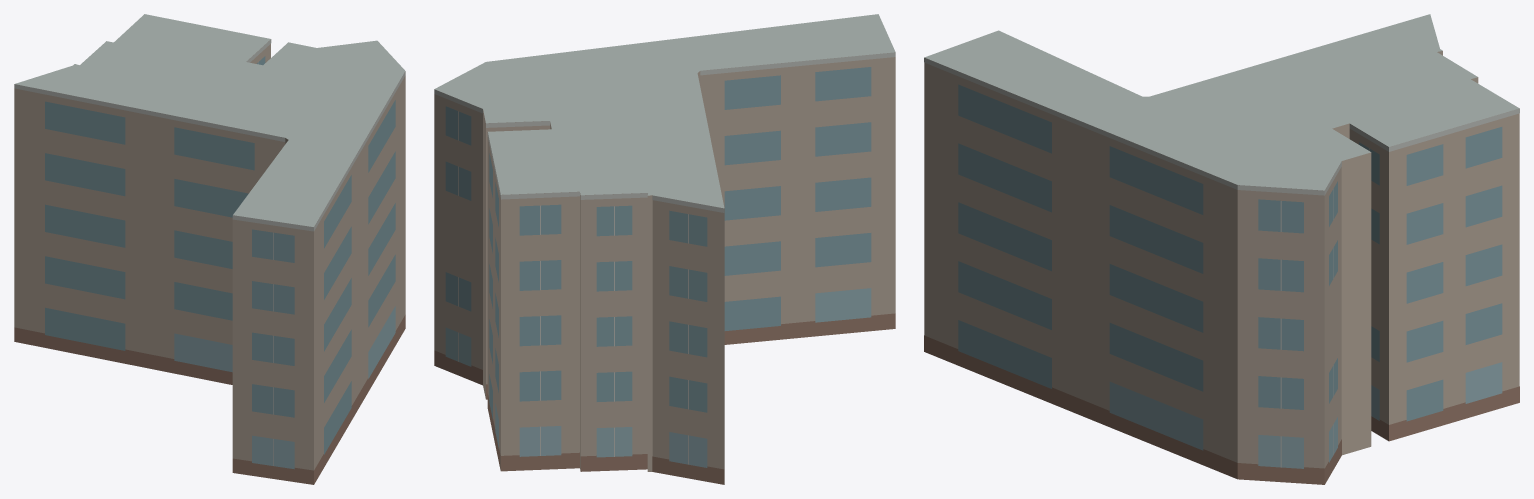
Rendered from survey-upis-32764833.glb.
3 views of the same model, side by side, from view 1: azimuth 30°, elevation 25°; view 2: azimuth 150°, elevation 25°; view 3: azimuth 270°, elevation 25° (orthographic). The views are drawn at different scales.
Parts seen in each view (by area): view 1: survey-upis-32764833.tmp; view 2: survey-upis-32764833.tmp; view 3: survey-upis-32764833.tmp.
Boxes of the visible parts, <box> form: survey-upis-32764833.tmp: <box>14,14,405,484</box>; survey-upis-32764833.tmp: <box>434,14,895,484</box>; survey-upis-32764833.tmp: <box>924,14,1519,484</box>.
Size of the model in its own units: 18.53 by 14.4 by 26.41.
